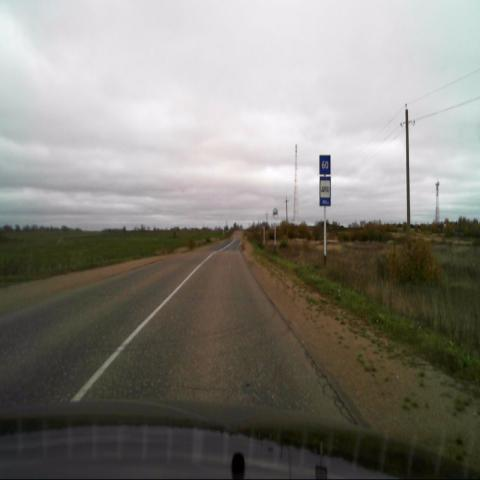6_2: (318, 155, 331, 175)
7_12: (319, 176, 331, 206)
